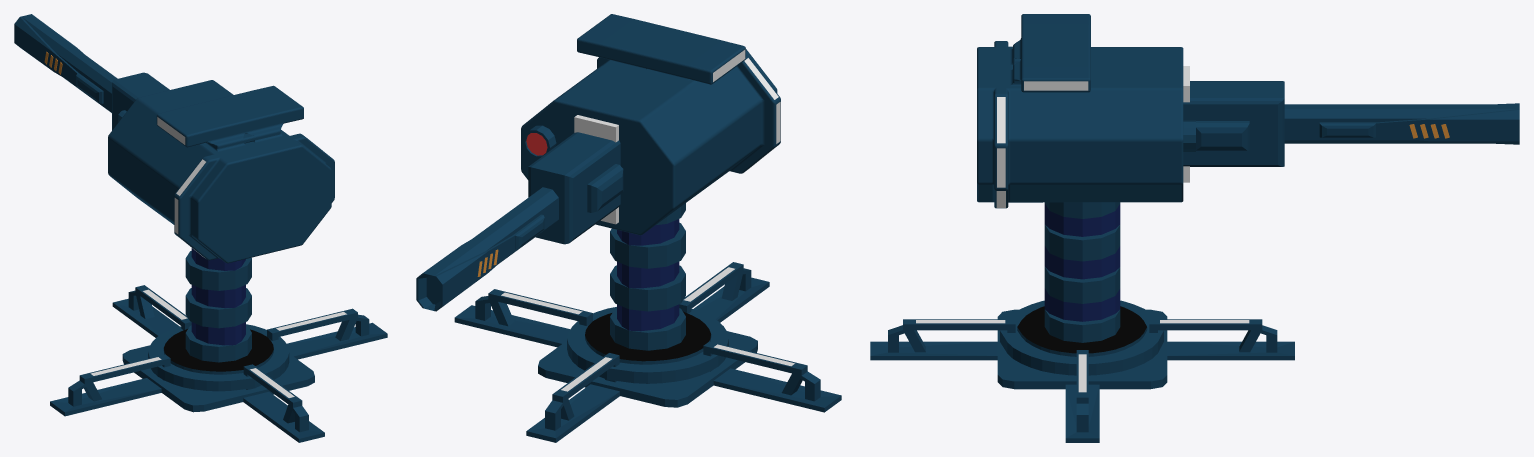
File: Main Turret.fbx
The picture shows the model from 3 angles, left to right: view 1: azimuth 30°, elevation 25°; view 2: azimuth 150°, elevation 25°; view 3: azimuth 270°, elevation 25°; orthographic projection. The views are drawn at different scales.
Parts seen in each view (by area): view 1: Turret, Rotat, RotatBase, Gun2, Base Support.001, Base, Base Support, Base Support.002, Base Support.003, Gun1; view 2: Turret, Rotat, Gun1, RotatBase, Gun2, Base Support.001, Base, Base Support, Base Support.003, Base Support.002, B Turret, Detail1; view 3: Turret, Rotat, Gun2, Gun1, RotatBase, Base Support.003, Base Support.002, Base, Base Support.
Boxes of the visible parts, box(x1,y1,x2,y2) form: Turret: box(108, 80, 334, 263); Rotat: box(185, 248, 251, 362); RotatBase: box(148, 324, 289, 391); Gun2: box(14, 14, 117, 112); Base Support.001: box(50, 354, 170, 416); Base: box(122, 345, 314, 412); Base Support: box(267, 308, 387, 359); Base Support.002: box(243, 364, 324, 442); Base Support.003: box(112, 285, 191, 337); Gun1: box(112, 72, 169, 130); Turret: box(521, 14, 780, 235); Rotat: box(610, 203, 685, 350); Gun1: box(528, 132, 623, 244); RotatBase: box(567, 307, 728, 383); Gun2: box(416, 187, 558, 311); Base Support.001: box(703, 341, 841, 412); Base: box(538, 331, 757, 407); Base Support: box(454, 289, 592, 347); Base Support.003: box(526, 353, 619, 442); Base Support.002: box(679, 262, 769, 322); B Turret: box(574, 115, 618, 224); Detail1: box(522, 125, 556, 158); Turret: box(977, 14, 1183, 208); Rotat: box(1044, 202, 1120, 342); Gun2: box(1284, 103, 1519, 144); Gun1: box(1183, 81, 1284, 166); RotatBase: box(1000, 300, 1163, 375); Base Support.003: box(1149, 319, 1294, 360); Base Support.002: box(870, 319, 1015, 360); Base: box(997, 309, 1167, 389); Base Support: box(1065, 350, 1099, 442).
Bounding box in the file's own units: 337 × 269 × 515.
